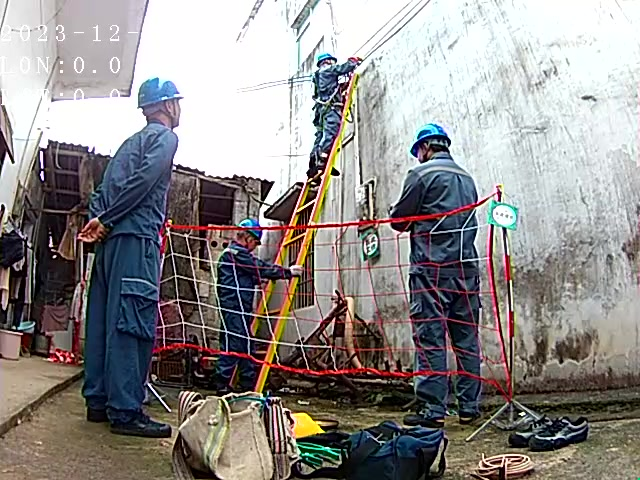halt: (140, 81, 187, 129), (413, 127, 455, 165), (239, 221, 266, 252), (319, 54, 340, 72)
inear: (420, 143, 436, 162)
